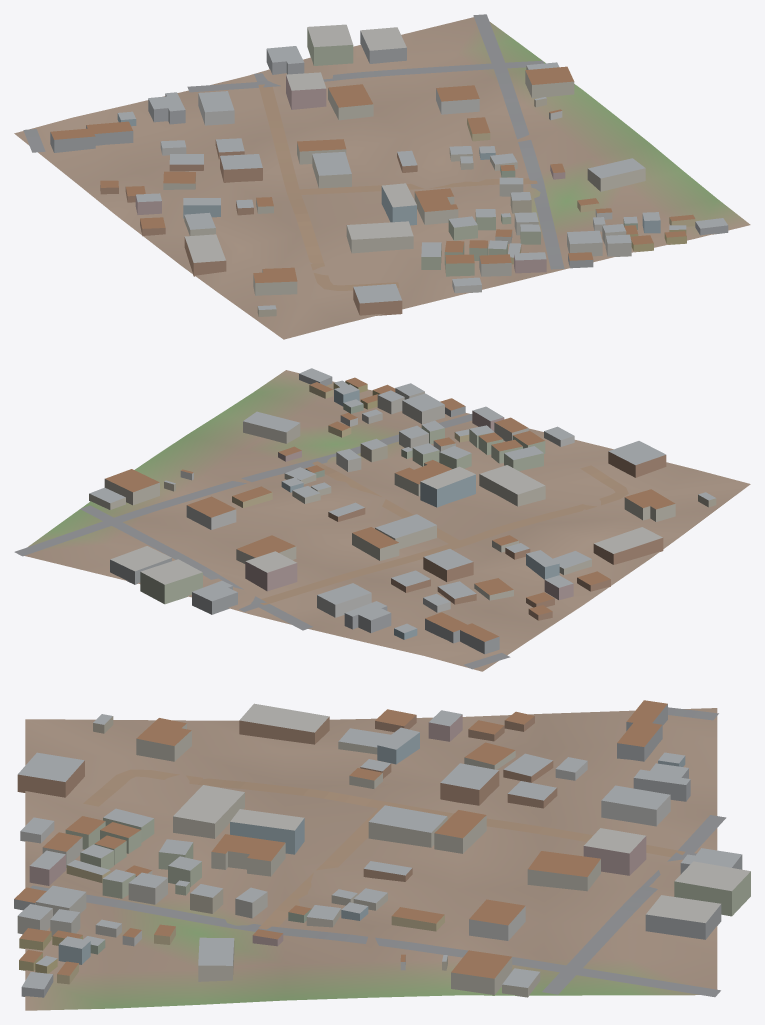
The picture shows the model from 3 angles, top to bottom: view 1: azimuth 30°, elevation 25°; view 2: azimuth 150°, elevation 25°; view 3: azimuth 270°, elevation 25°; orthographic projection. The views are drawn at different scales.
Visible parts, largest first — view 1: Lo; view 2: Lo; view 3: Lo.
Boxes of the visible parts, x1,y1,x2,y2 form: Lo: [14, 14, 750, 339]; Lo: [14, 368, 750, 671]; Lo: [14, 700, 750, 1010].
Bounding box in the file's own units: 261 × 17.22 × 273.
